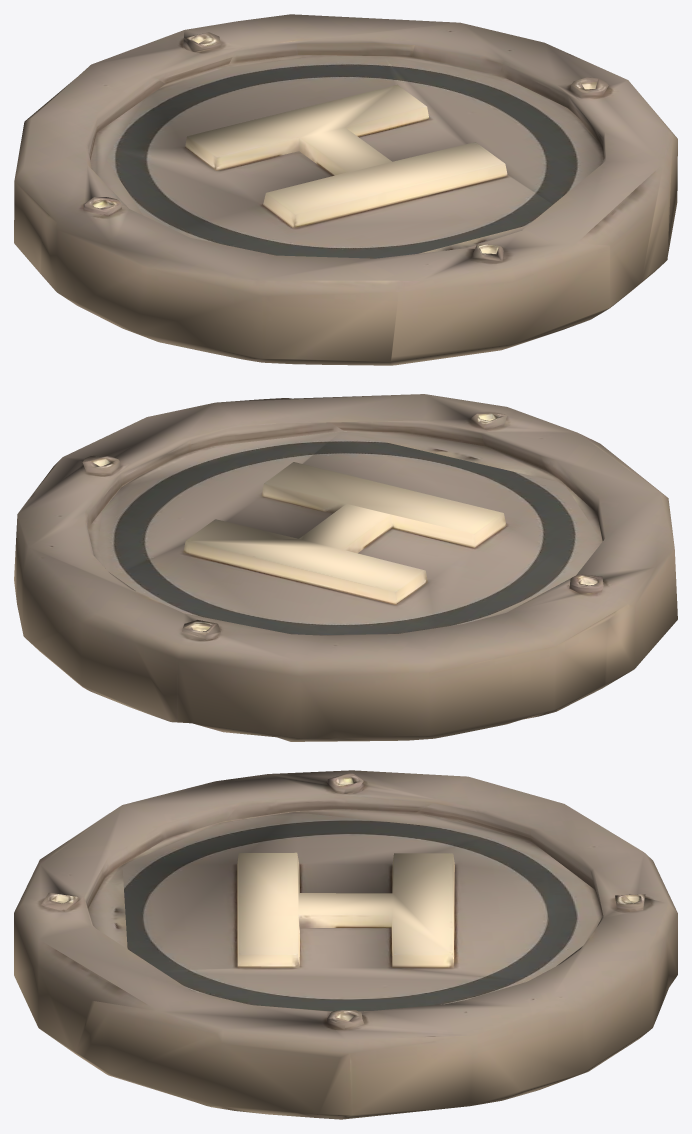
The model's file is landing.glb.
3 renders of one model, top to bottom at view 1: azimuth 30°, elevation 25°; view 2: azimuth 150°, elevation 25°; view 3: azimuth 270°, elevation 25°, orthographic.
Visible parts, largest first — view 1: node_0; view 2: node_0; view 3: node_0.
Part boxes in pixels (x1,y1,x2,y2): node_0: (14, 14, 677, 365); node_0: (14, 394, 677, 741); node_0: (14, 770, 677, 1119).
Bounding box in the file's own units: 1.18 × 0.1666 × 1.18.
Materials: 1 (1 with a texture image).
